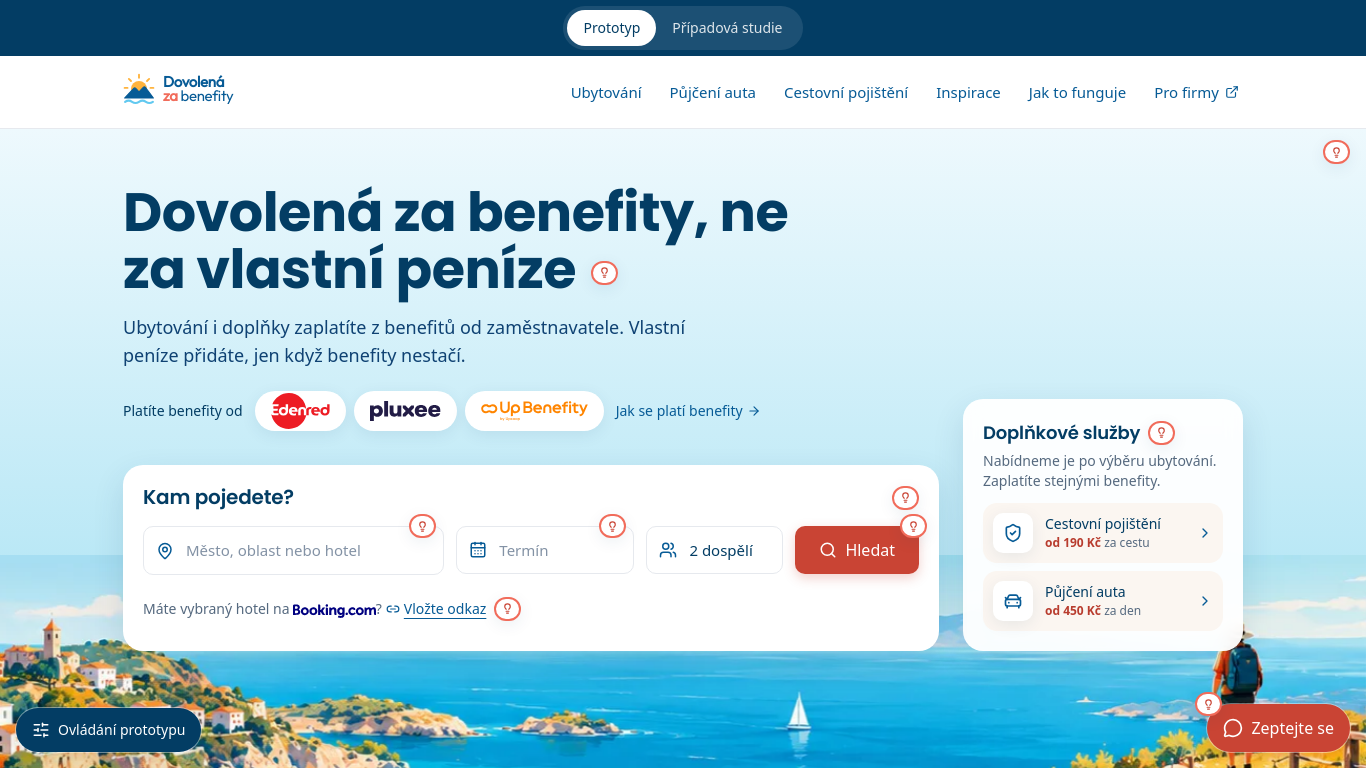
it: Prototyp úvodní stránky › odkaz mimo prototyp ukáže vysvětlení
The width and height of the screenshot is (1366, 768).
Click the button "Pro firmy".
click(1197, 92)  # box [1150,70,1243,114]
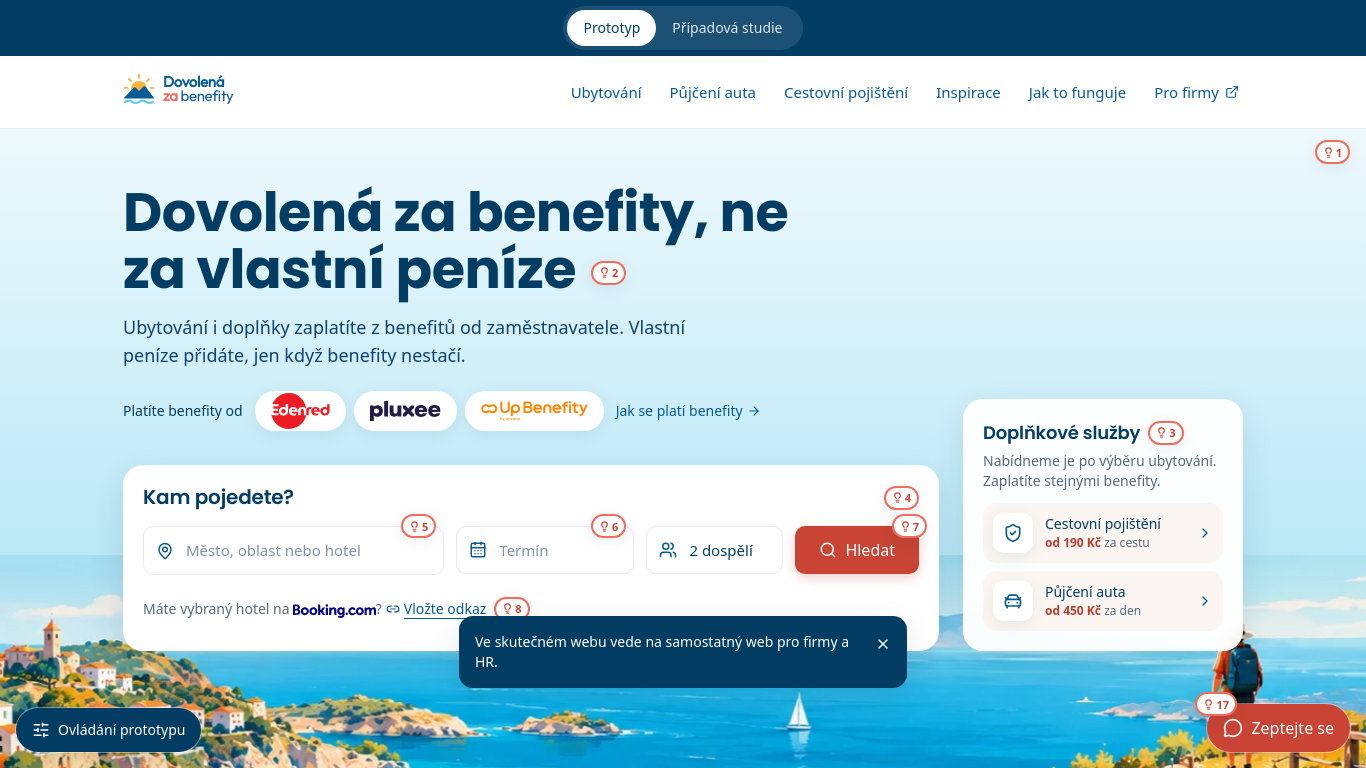
expect the text "Ve skutečném webu vede na samostatný web pro firmy a HR." is shown: met, box [475,628,855,676]
